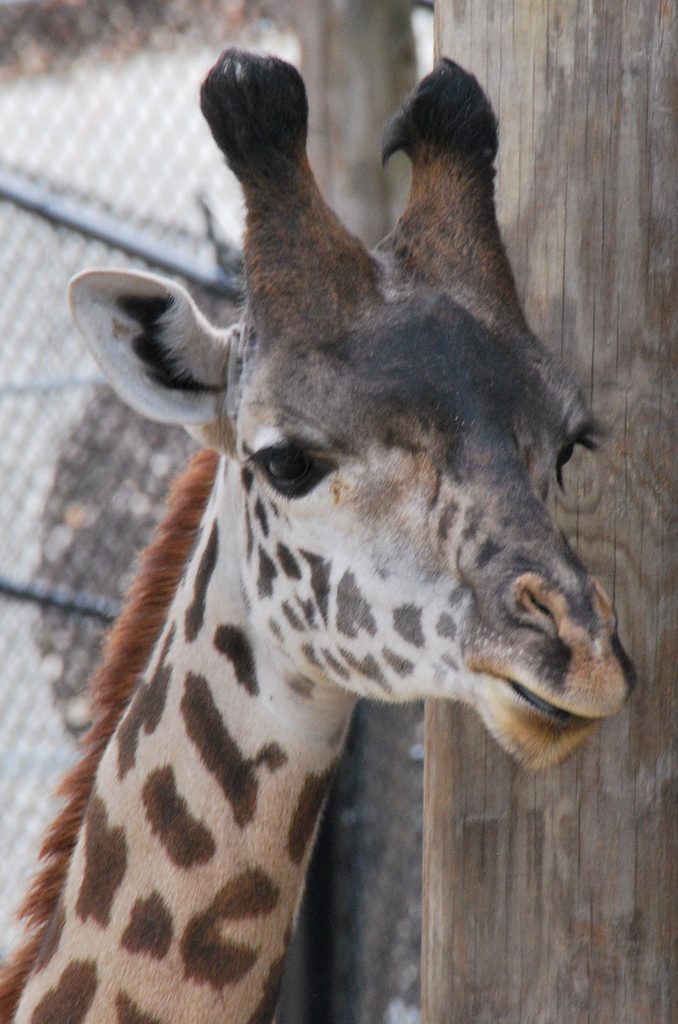giraffe: (89, 38, 625, 945)
